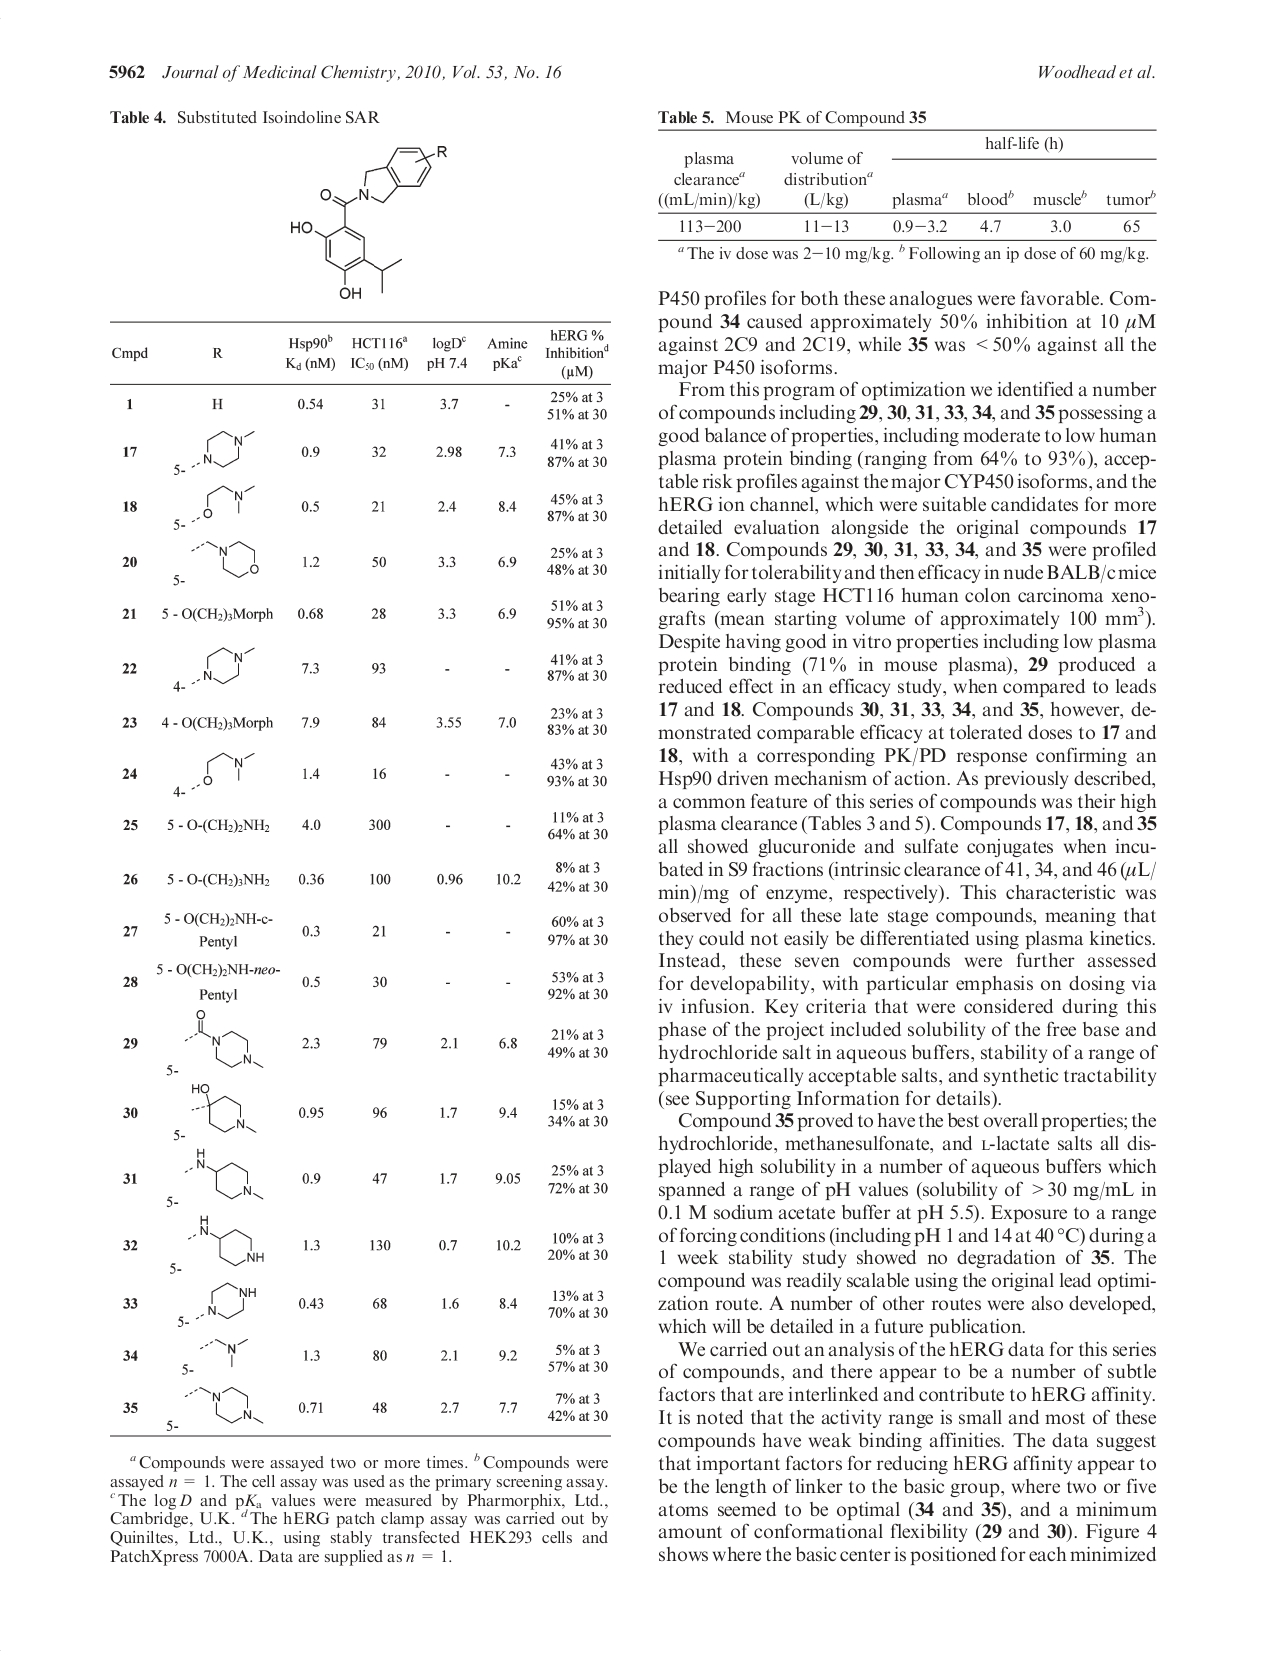exist_molecular: (281, 140, 451, 305), (176, 1005, 278, 1081), (172, 1137, 265, 1209), (184, 1212, 274, 1267), (181, 537, 281, 588), (188, 743, 279, 798), (190, 422, 273, 481), (176, 1083, 261, 1138), (197, 637, 269, 697), (188, 477, 274, 523), (188, 1380, 271, 1426), (190, 1282, 261, 1323), (195, 1330, 262, 1367)
